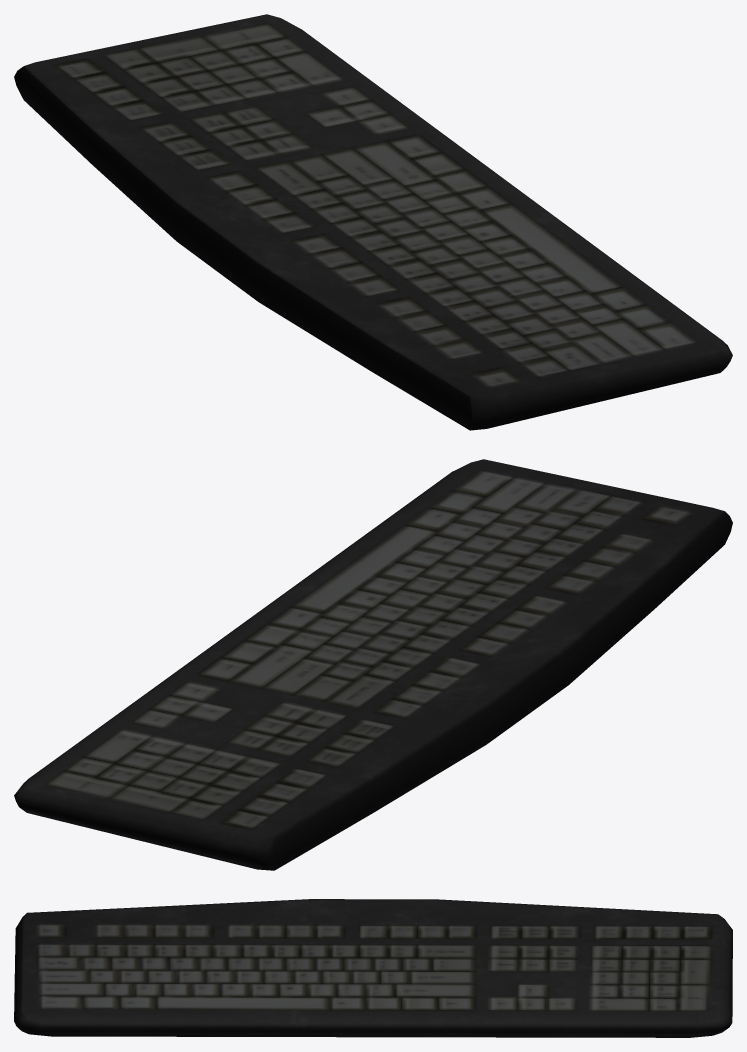
The model's file is Keyboard.fbx.
3 views of the same model, one above another, from view 1: azimuth 30°, elevation 25°; view 2: azimuth 150°, elevation 25°; view 3: azimuth 270°, elevation 25° (orthographic). The views are drawn at different scales.
Visible parts, largest first — view 1: Keyboard; view 2: Keyboard; view 3: Keyboard.
Part boxes in pixels (bbox=[...]): Keyboard: bbox=[14, 14, 732, 430]; Keyboard: bbox=[14, 459, 732, 870]; Keyboard: bbox=[14, 899, 732, 1037].
Bounding box in the file's own units: 17.12 × 2.1 × 46.3.
